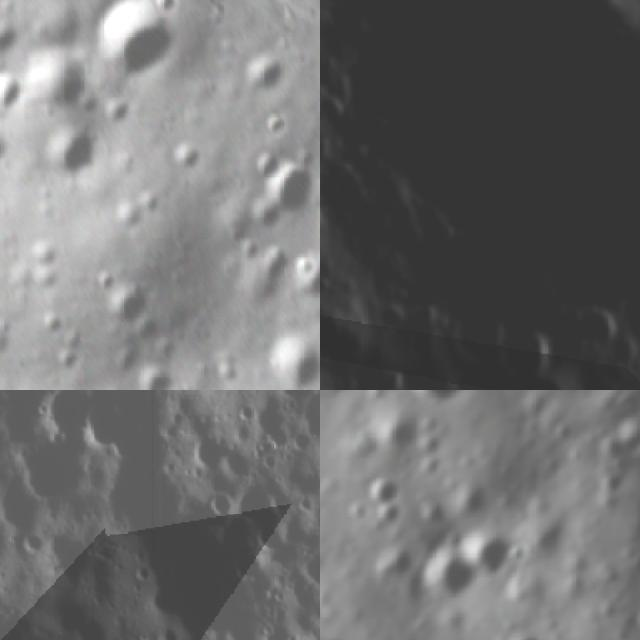crater: (330, 0, 640, 315), (90, 0, 193, 88), (7, 442, 102, 508), (29, 42, 109, 118), (458, 514, 530, 586), (503, 315, 568, 390), (566, 292, 639, 357), (253, 327, 320, 390), (41, 120, 103, 186), (264, 157, 320, 226), (25, 390, 98, 442), (40, 523, 101, 585), (422, 548, 482, 608), (98, 278, 160, 336), (240, 41, 298, 100), (234, 478, 286, 533), (360, 463, 412, 517), (377, 402, 428, 455), (398, 390, 495, 416), (289, 247, 320, 316), (188, 427, 230, 473), (243, 195, 286, 237), (129, 359, 186, 390), (248, 142, 289, 185), (621, 396, 640, 483), (0, 65, 30, 116), (266, 24, 320, 49), (0, 17, 27, 63), (497, 619, 554, 640), (0, 517, 21, 565), (0, 117, 16, 177), (208, 480, 230, 520), (320, 191, 337, 240), (153, 0, 180, 15)
